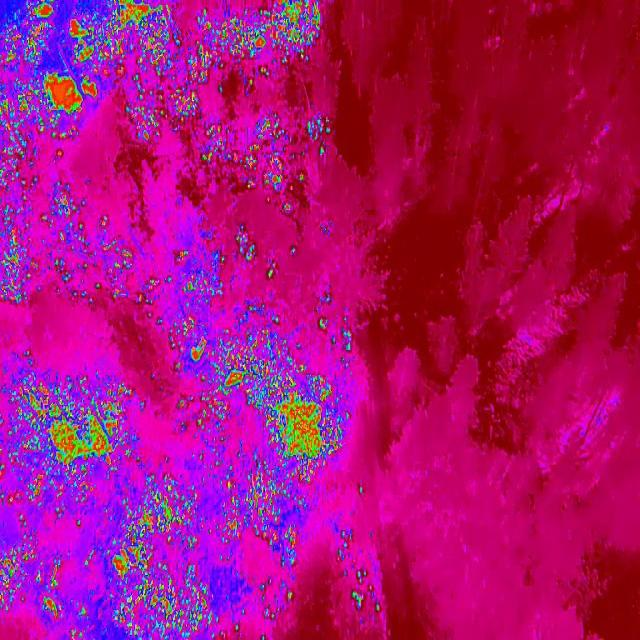fire: (201, 328, 359, 497), (0, 378, 136, 484), (0, 225, 149, 306), (188, 0, 320, 78), (109, 557, 227, 640), (102, 476, 198, 574), (246, 115, 331, 213), (67, 0, 179, 68), (0, 69, 103, 141), (117, 64, 208, 142), (213, 499, 302, 569), (0, 539, 68, 626), (0, 482, 95, 534), (326, 552, 389, 619), (0, 0, 56, 68), (252, 576, 296, 626), (171, 316, 206, 372), (36, 187, 78, 222), (200, 124, 232, 166), (0, 139, 30, 183), (232, 222, 260, 262), (67, 594, 91, 640), (240, 301, 282, 327), (180, 272, 212, 304), (262, 261, 283, 285), (172, 248, 189, 266), (98, 213, 112, 233), (315, 313, 331, 329), (51, 146, 65, 162)
